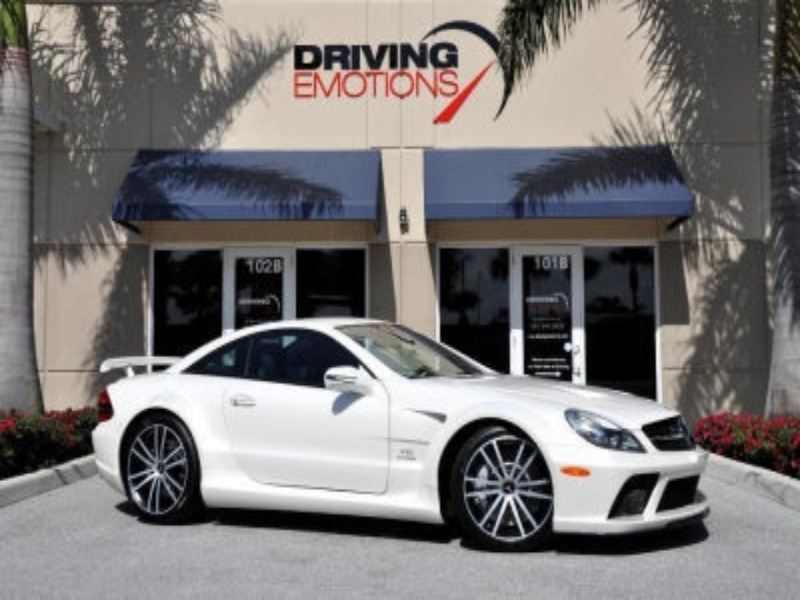normalcar: (86, 313, 726, 544)
